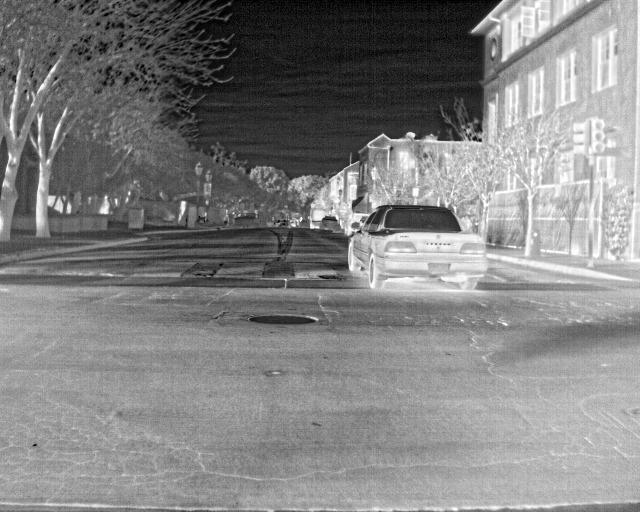car: (345, 203, 487, 292), (318, 214, 340, 234)
